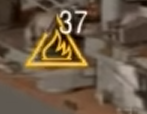1fire: (21, 34, 92, 69)
